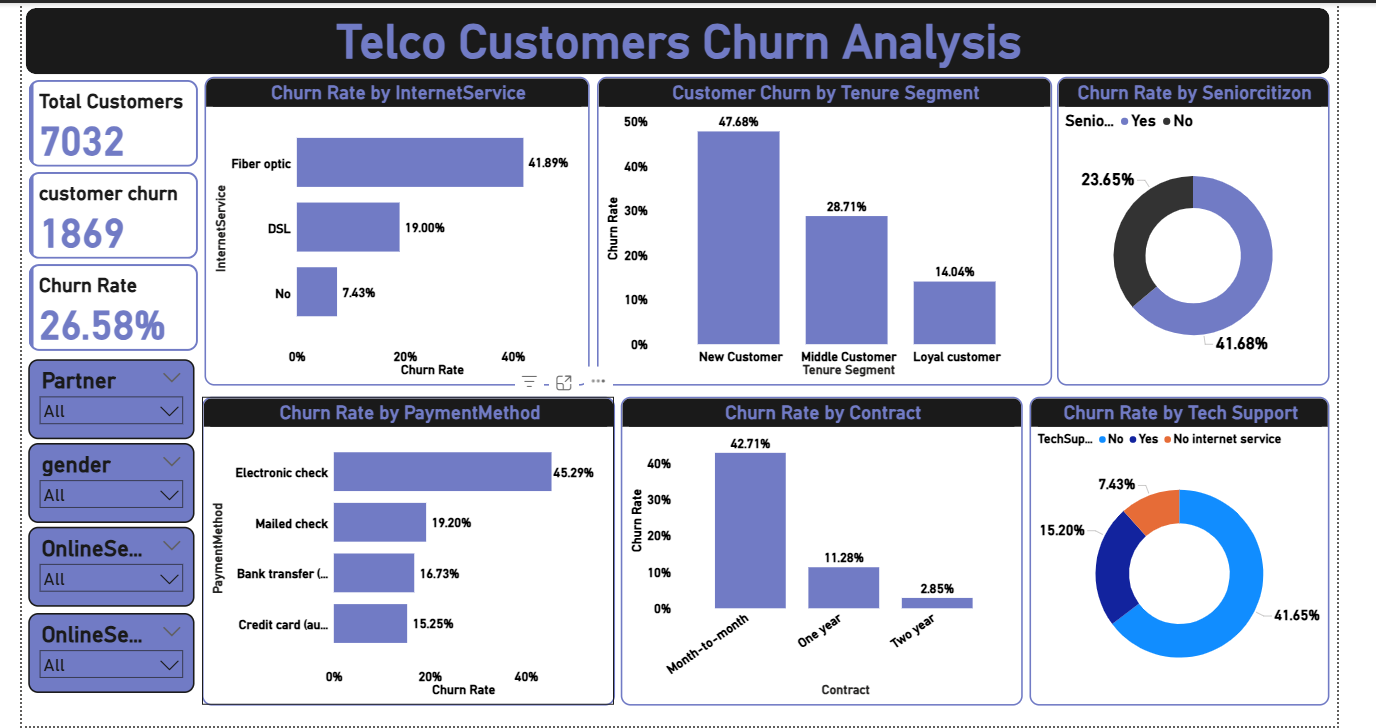

This screenshot's page, from the dashboard's own definition file:
{"tool":"powerbi","page":{"name":"Page 1","canvas":[2000,1100],"ordinal":0},"visuals":[{"type":"cardVisual","fields":{"Data":["Dax Section.Total Customers","Dax Section.customer churn","Dax Section.Churn Rate","Dax Section.Retntion %"]},"box":[5.7,7.6,268,587.3],"z":0},{"type":"shape","box":[277.5,7.6,1710.4,100.7],"z":1},{"type":"textbox","title":"Telco Customers Churn Analysis","box":[277.5,17.1,1710.4,83.6],"z":2},{"type":"donutChart","title":"Churn Rate by Seniorcitizon","fields":{"Category":["Telco-Customer-Churn.Seniorcitizon"],"Y":["Dax Section.Churn Rate"]},"box":[1573.6,112.1,414.3,469.4],"z":3},{"type":"columnChart","title":"Customer Churn by Tenure Segment","fields":{"Category":["Telco-Customer-Churn.Tenure Segment"],"Y":["Dax Section.Churn Rate"]},"box":[874.2,112.1,691.8,469.4],"z":4},{"type":"barChart","fields":{"Category":["Telco-Customer-Churn.InternetService"],"Y":["Dax Section.Churn Rate"]},"box":[277.5,112.1,585.4,469.4],"z":5},{"type":"barChart","fields":{"Y":["Dax Section.Churn Rate"],"Category":["Telco-Customer-Churn.PaymentMethod"]},"box":[273.7,598.7,628,469.4],"z":6},{"type":"columnChart","fields":{"Category":["Telco-Customer-Churn.Contract"],"Y":["Dax Section.Churn Rate"]},"box":[910.3,598.7,611,469.4],"z":7},{"type":"donutChart","title":"Churn Rate by Tech Support","fields":{"Y":["Dax Section.Churn Rate"],"Category":["Telco-Customer-Churn.TechSupport"]},"box":[1531.8,598.7,456.1,469.4],"z":8},{"type":"slicer","fields":{"Values":["Telco-Customer-Churn.Partner"]},"box":[9.5,598.7,252.8,117.8],"z":9},{"type":"slicer","fields":{"Values":["Telco-Customer-Churn.gender"]},"box":[9.5,724.1,252.8,117.8],"z":10},{"type":"slicer","fields":{"Values":["Telco-Customer-Churn.OnlineSecurity"]},"box":[9.5,849.5,252.8,115.9],"z":11},{"type":"slicer","fields":{"Values":["Telco-Customer-Churn.OnlineSecurity"]},"box":[9.5,973.1,252.8,115.9],"z":12}]}

Visuals, with their boxes in screenshot pixels (x1, y1, x2, y2):
cardVisual - Dax Section.Total Customers x Dax Section.customer churn: x1=25 y1=5 x2=200 y2=388
shape: x1=202 y1=5 x2=1318 y2=71
"Telco Customers Churn Analysis" textbox: x1=202 y1=11 x2=1318 y2=66
"Churn Rate by Seniorcitizon" donutChart: x1=1048 y1=73 x2=1318 y2=379
"Customer Churn by Tenure Segment" columnChart: x1=592 y1=73 x2=1043 y2=379
barChart - Telco-Customer-Churn.InternetService x Dax Section.Churn Rate: x1=202 y1=73 x2=584 y2=379
barChart - Dax Section.Churn Rate x Telco-Customer-Churn.PaymentMethod: x1=200 y1=390 x2=610 y2=697
columnChart - Telco-Customer-Churn.Contract x Dax Section.Churn Rate: x1=615 y1=390 x2=1014 y2=697
"Churn Rate by Tech Support" donutChart: x1=1020 y1=390 x2=1318 y2=697
slicer - Telco-Customer-Churn.Partner: x1=28 y1=390 x2=193 y2=467
slicer - Telco-Customer-Churn.gender: x1=28 y1=472 x2=193 y2=549
slicer - Telco-Customer-Churn.OnlineSecurity: x1=28 y1=554 x2=193 y2=630
slicer - Telco-Customer-Churn.OnlineSecurity: x1=28 y1=635 x2=193 y2=710
